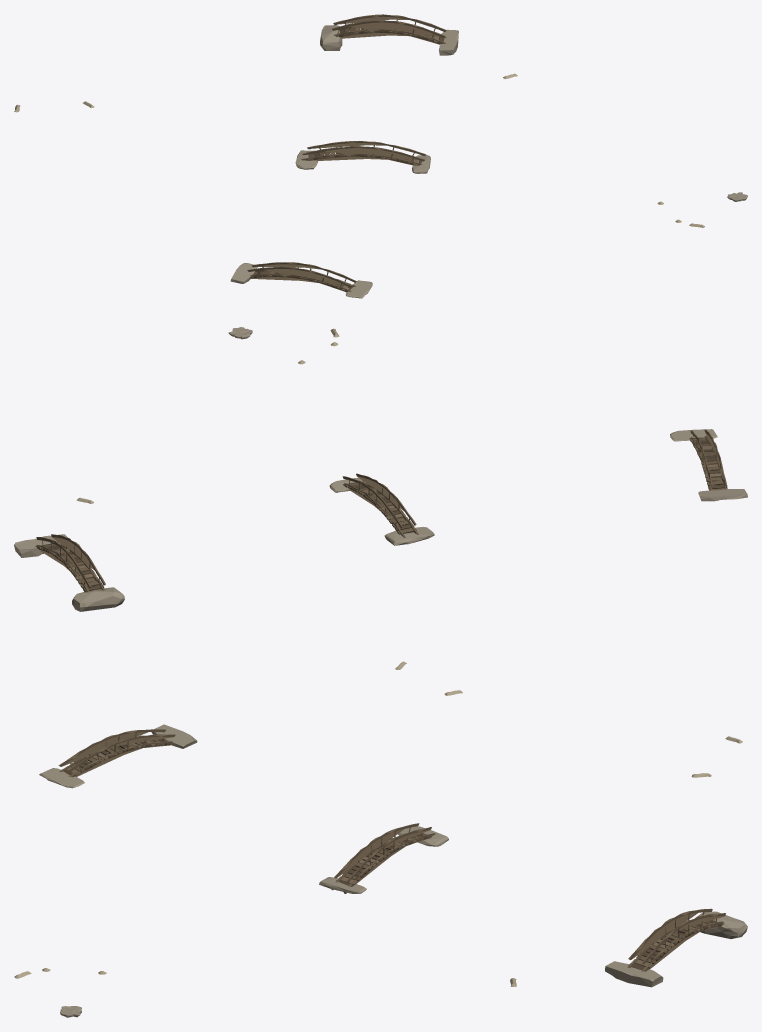
The model's file is Heightmap_Forest_Steppable.fbx.
The picture shows the model from 3 angles, top to bottom: view 1: azimuth 30°, elevation 25°; view 2: azimuth 150°, elevation 25°; view 3: azimuth 270°, elevation 25°; orthographic projection. The views are drawn at different scales.
Parts seen in each view (by area): view 1: PolygonNature_01, PolygonNature_Tree_02; view 2: PolygonNature_01, PolygonNature_Tree_02; view 3: PolygonNature_01, PolygonNature_Tree_02.
Part boxes in pixels (<box>): PolygonNature_01: <box>14,14,747,292</box>; PolygonNature_Tree_02: <box>230,25,458,298</box>; PolygonNature_01: <box>35,327,727,695</box>; PolygonNature_Tree_02: <box>14,429,747,611</box>; PolygonNature_01: <box>14,729,742,1017</box>; PolygonNature_Tree_02: <box>39,724,747,987</box>.
Bounding box in the file's own units: 67.77 × 3.84 × 73.37.
Materials: 1 (1 with a texture image).
